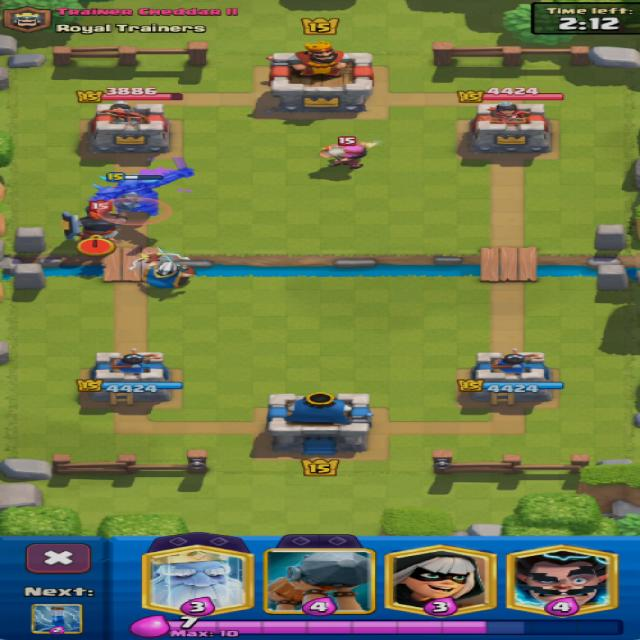Enemy-DarkPrince-Shield: (60, 190, 144, 249)
Enemy-Firecracker: (329, 145, 371, 167)
Enemy-KingTower: (270, 50, 372, 114)
Enemy-PrincessTower: (88, 99, 169, 152), (470, 102, 549, 154)
